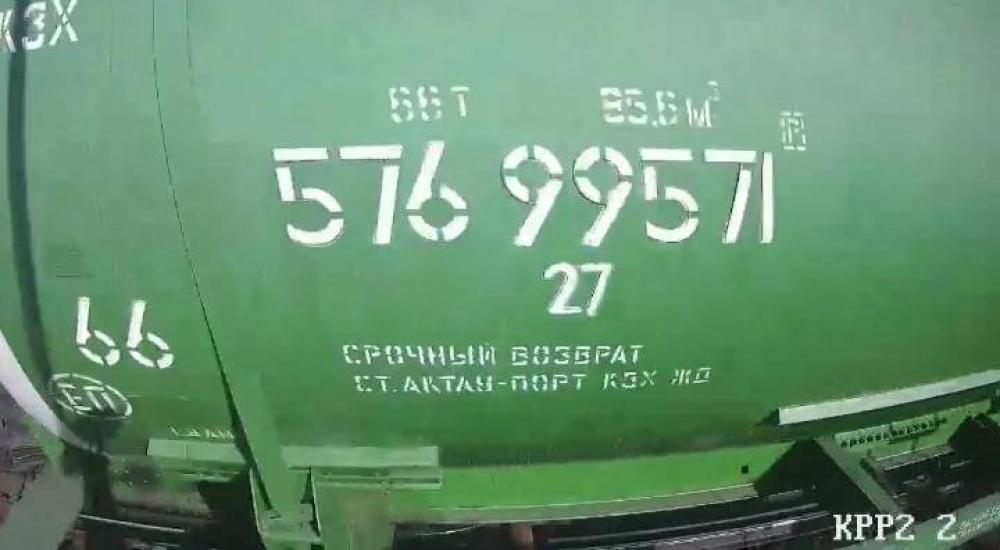Wagon-number: (272, 137, 782, 252)
